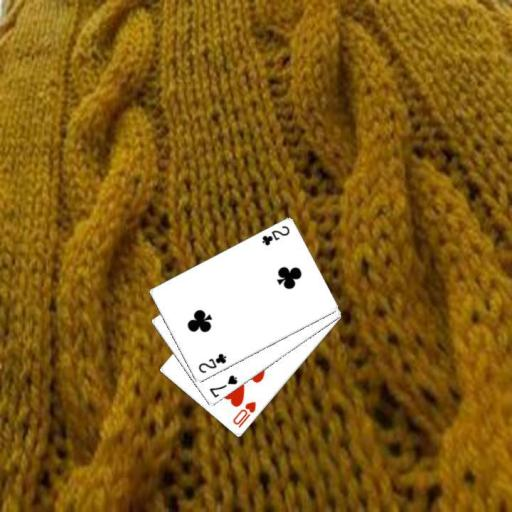10H: (230, 398, 257, 430)
2C: (259, 223, 291, 248), (195, 351, 227, 375)
7S: (206, 372, 239, 400)
